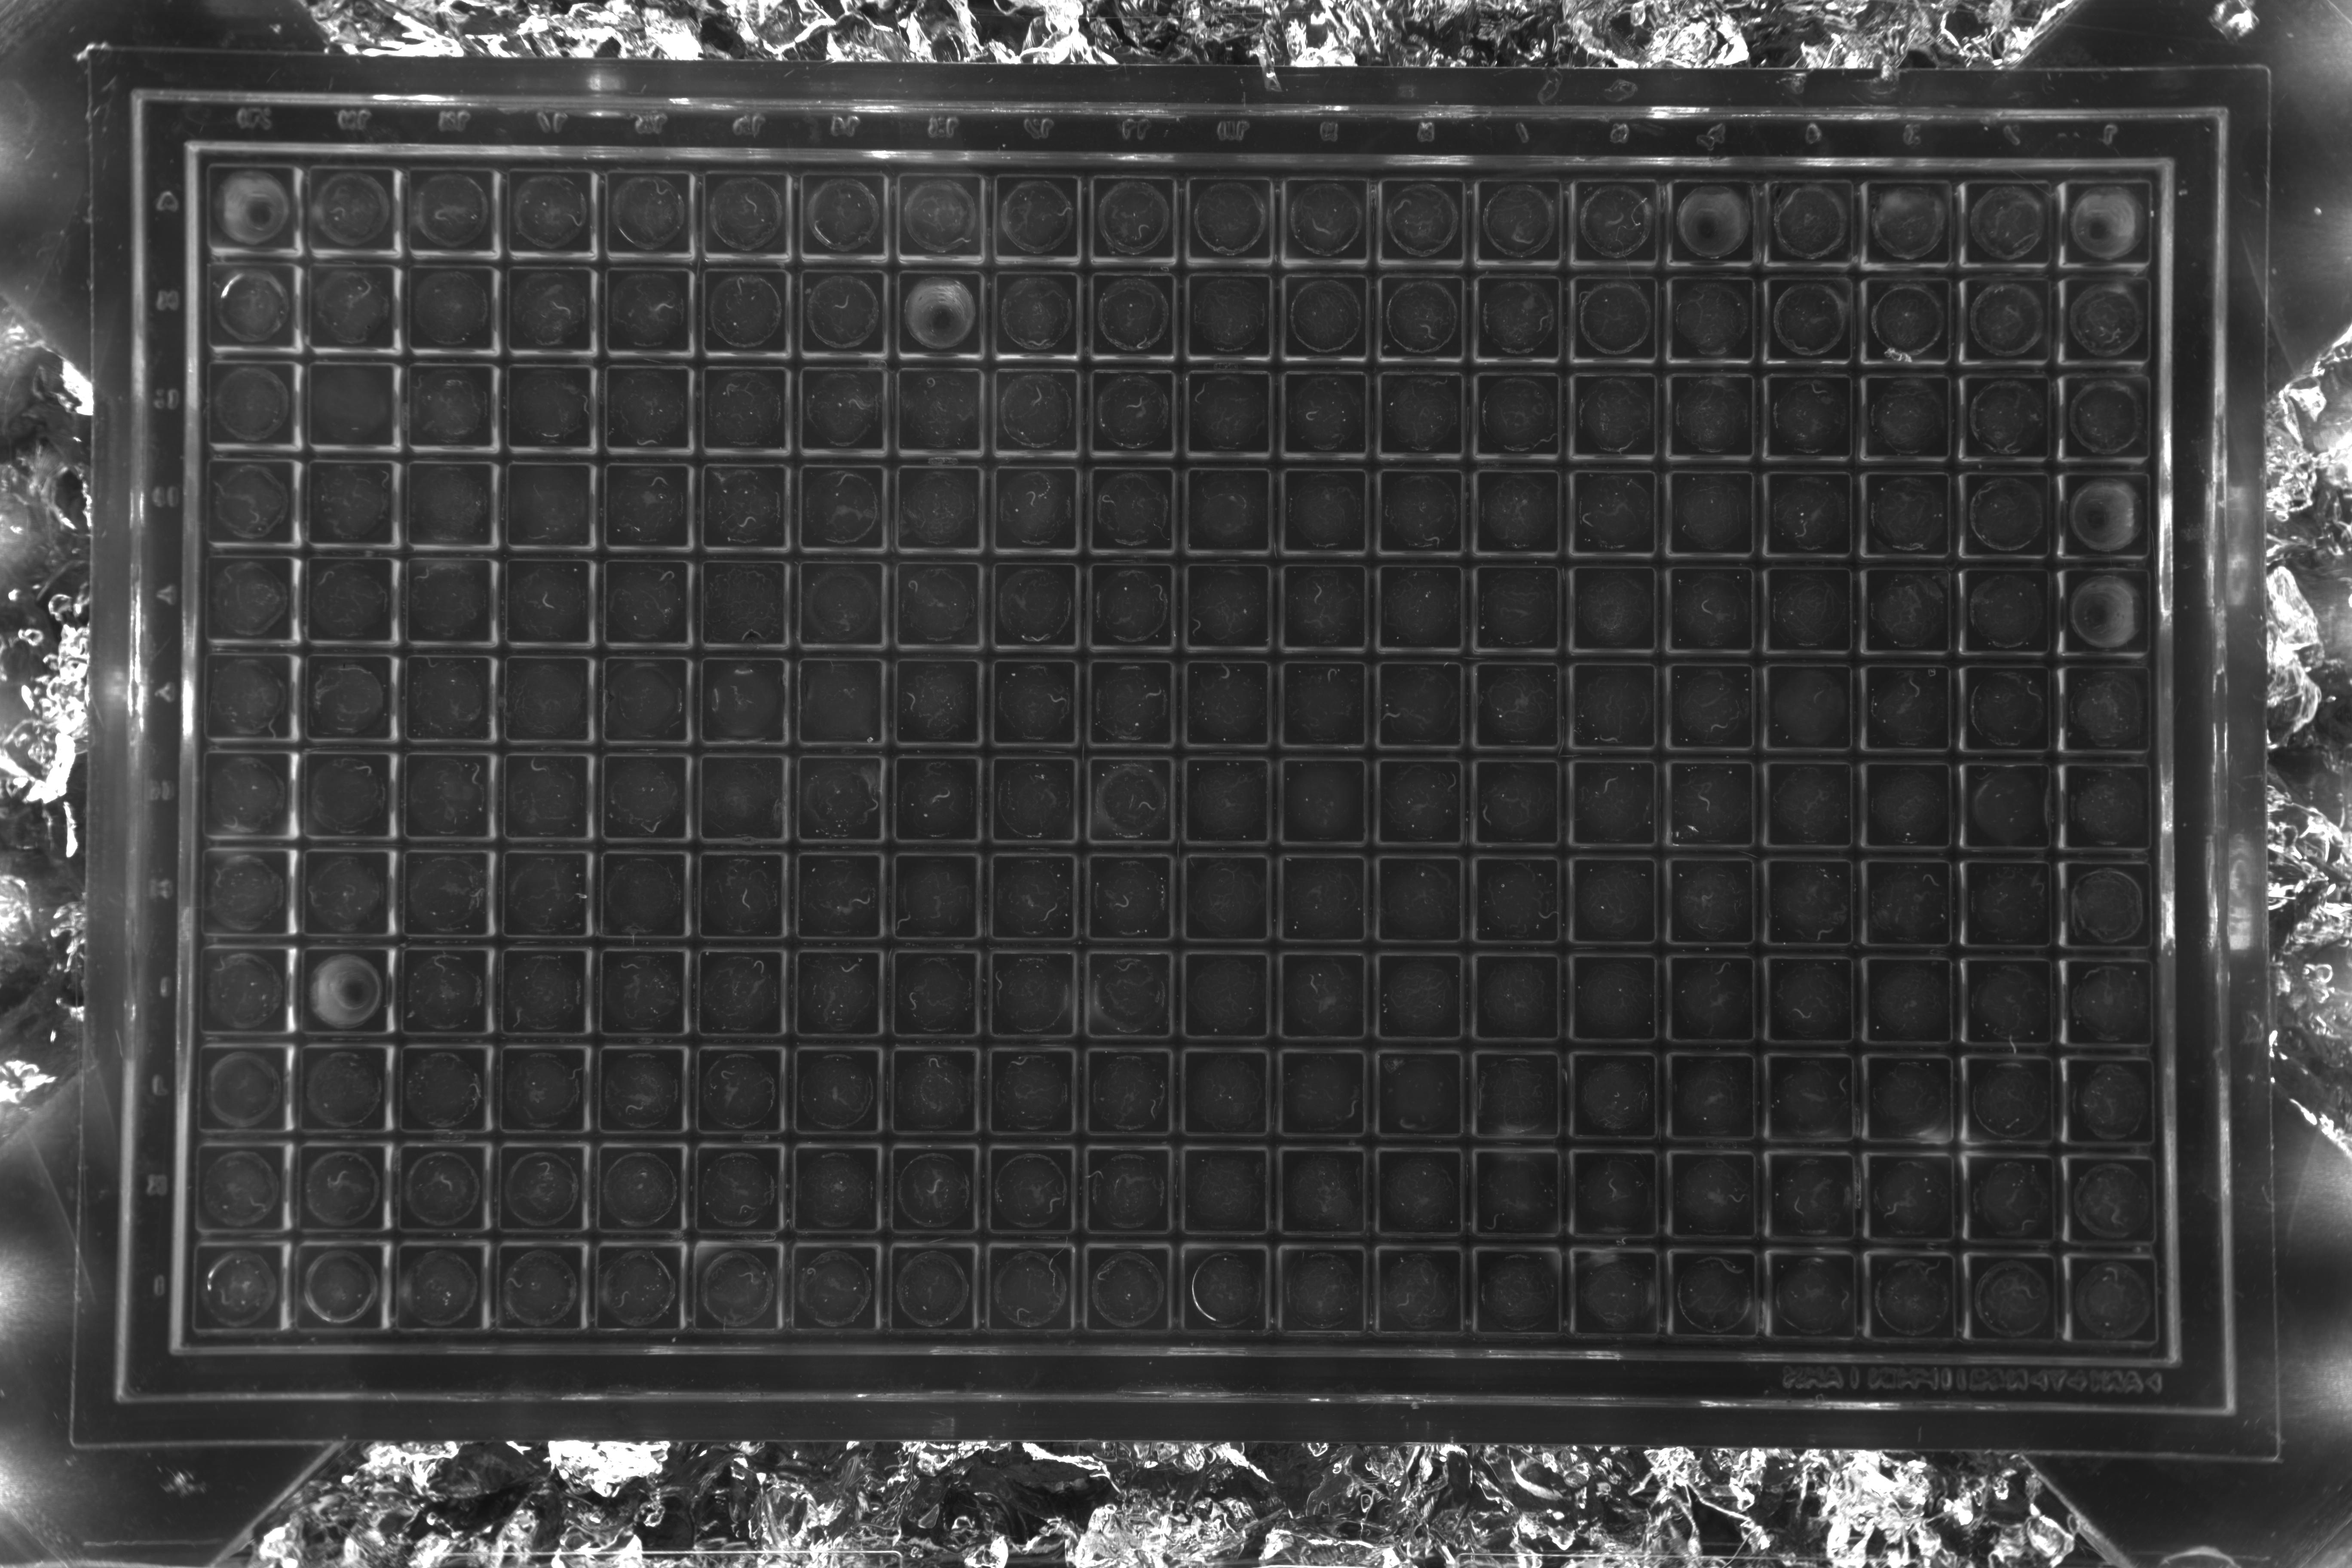WM_well: (203, 651, 292, 738), (789, 268, 878, 355), (203, 747, 290, 835), (290, 1242, 378, 1330), (296, 1043, 383, 1130), (401, 555, 488, 642), (497, 749, 584, 836), (693, 364, 780, 451), (782, 1339, 870, 1426), (789, 654, 877, 742), (887, 269, 975, 357), (983, 269, 1071, 357), (1080, 947, 1167, 1034), (1176, 1045, 1263, 1132), (1274, 1143, 1361, 1230), (1368, 269, 1456, 357), (1563, 464, 1650, 551), (1661, 560, 1748, 647), (1759, 366, 1846, 453), (1864, 1150, 1951, 1237), (1865, 1349, 1953, 1437), (1956, 462, 2044, 549), (1956, 560, 2044, 647), (2056, 560, 2144, 647)
